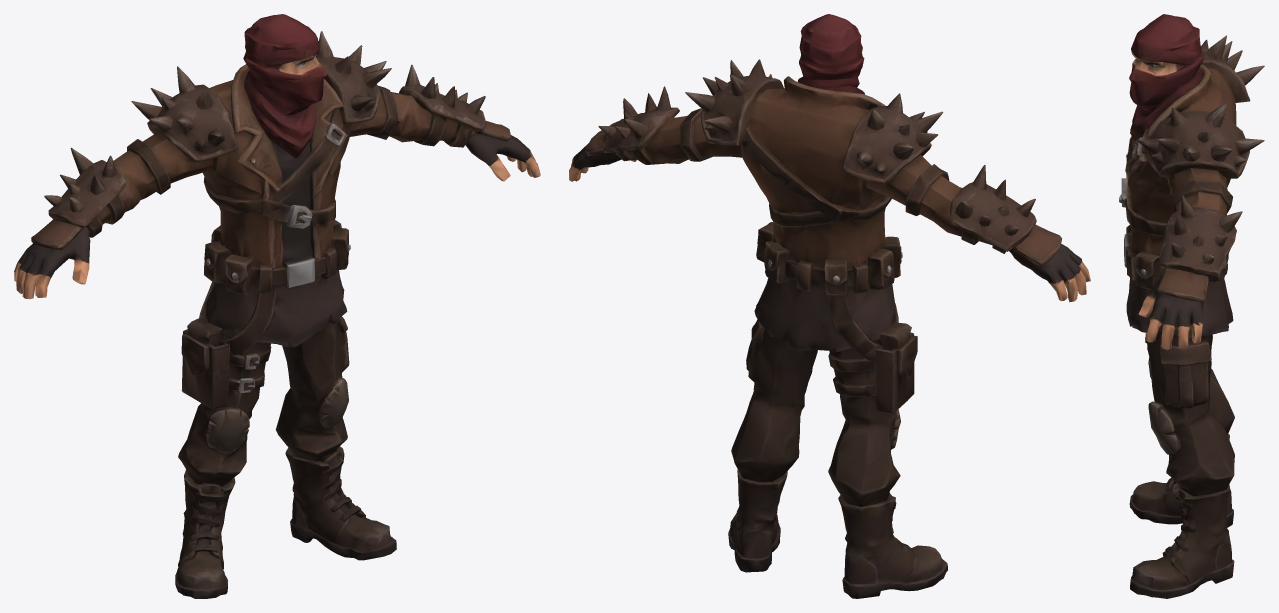
File: char_rd_raider_idle.glb
3 views of the same model, side by side, from view 1: azimuth 30°, elevation 25°; view 2: azimuth 150°, elevation 25°; view 3: azimuth 270°, elevation 25° (orthographic). The views are drawn at different scales.
Visible parts, largest first — view 1: tripo_node_8fb54eed-e207-4726-b731-d67f760a036a; view 2: tripo_node_8fb54eed-e207-4726-b731-d67f760a036a; view 3: tripo_node_8fb54eed-e207-4726-b731-d67f760a036a.
Part boxes in pixels (x1,y1,x2,y2): tripo_node_8fb54eed-e207-4726-b731-d67f760a036a: (14, 14, 540, 598); tripo_node_8fb54eed-e207-4726-b731-d67f760a036a: (569, 14, 1090, 598); tripo_node_8fb54eed-e207-4726-b731-d67f760a036a: (1119, 14, 1264, 598).
Size of the model in its own units: 1.77 by 1.82 by 0.4503.
Materials: 1 (1 with a texture image).
